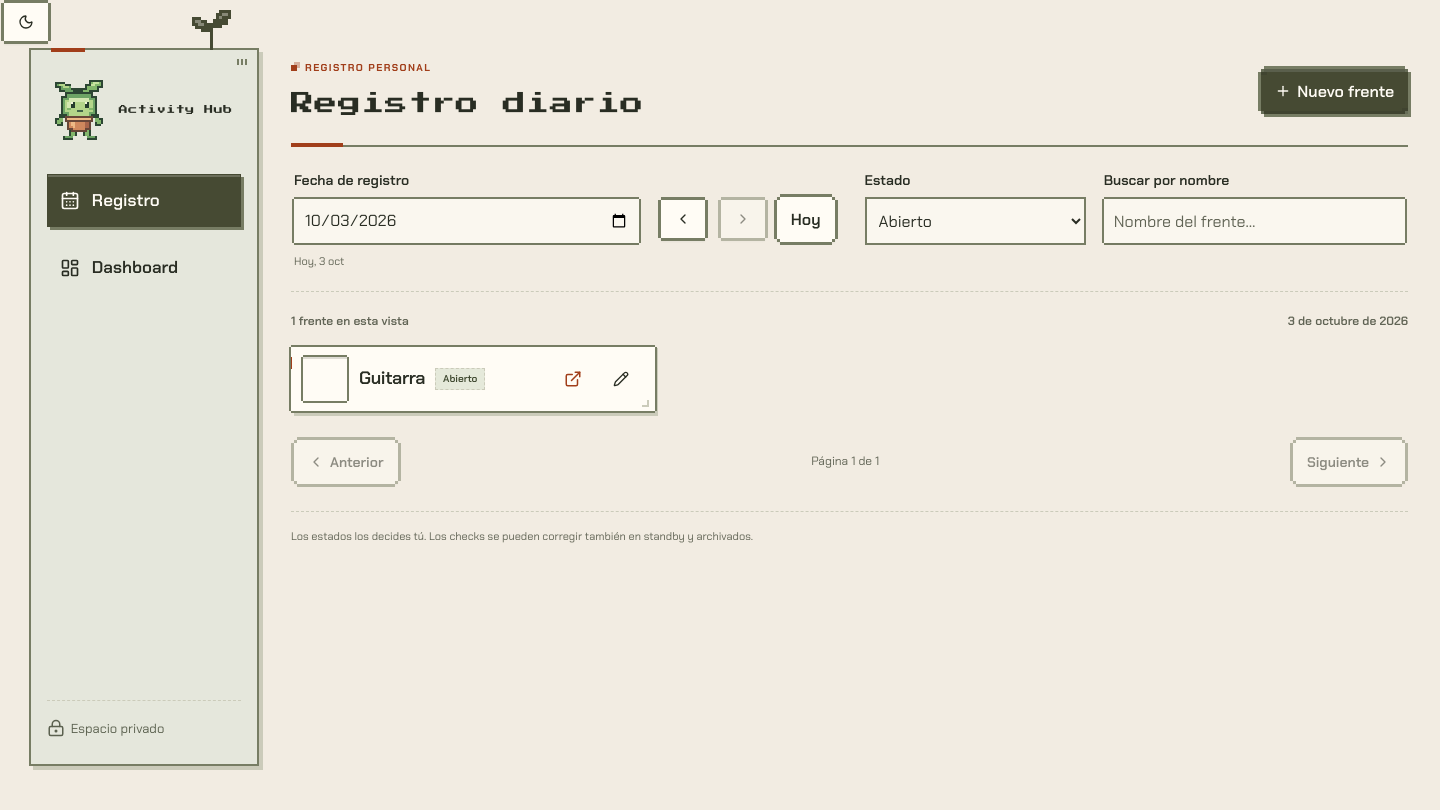
Test: Preferencia visual independiente de las cuentas y escrituras › el editor no ofrece cambiar tema y conserva borrador e intención si cambia desde otra pestaña
expect the heading "Guitarra" is shown: met, box x1=359 y1=366 x2=425 y2=392
Click the button "Nuevo frente" at (1335, 91), box x1=1261 y1=69 x2=1408 y2=114
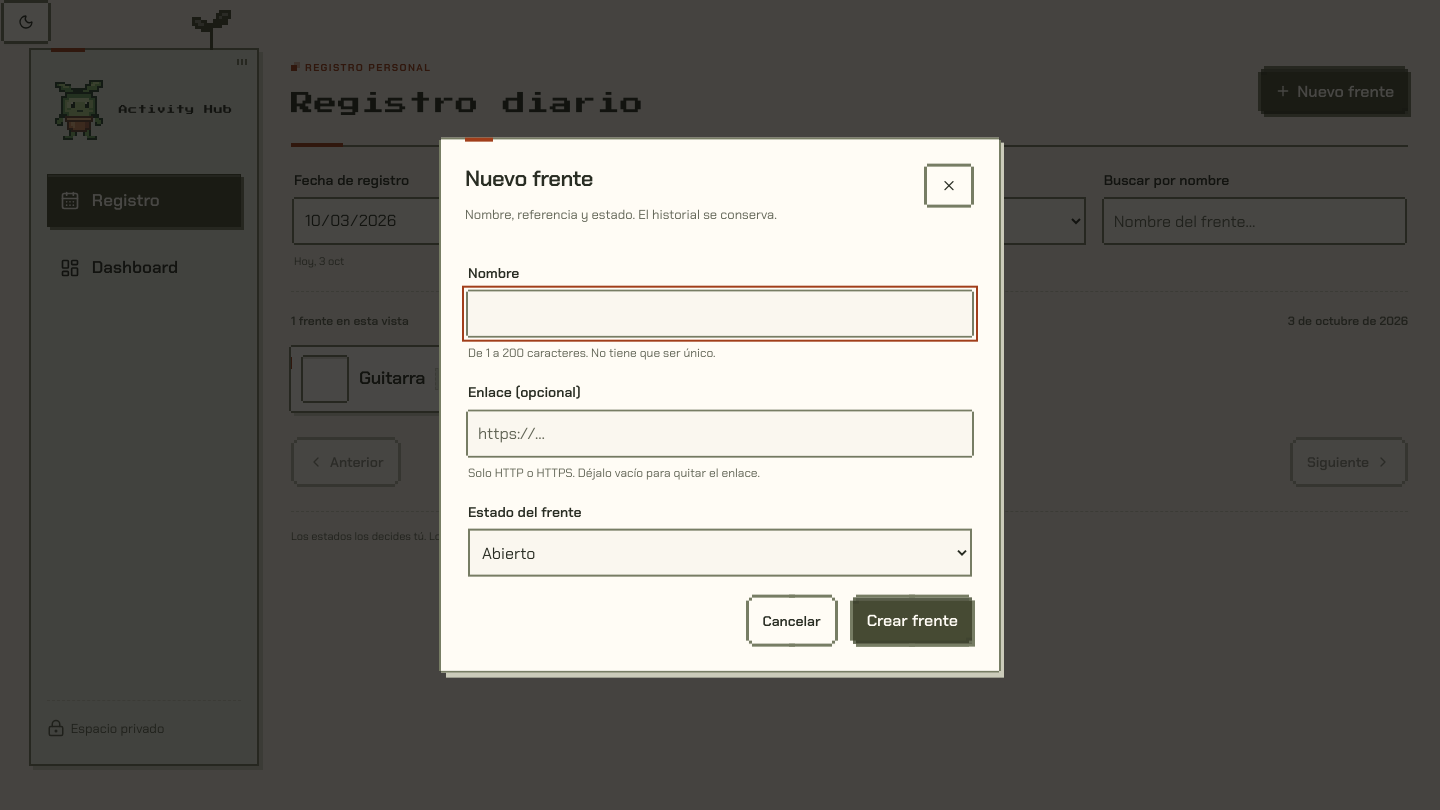
Type "Borrador conservado" into the field labelled "Nombre" at (720, 314), box x1=468 y1=292 x2=972 y2=336
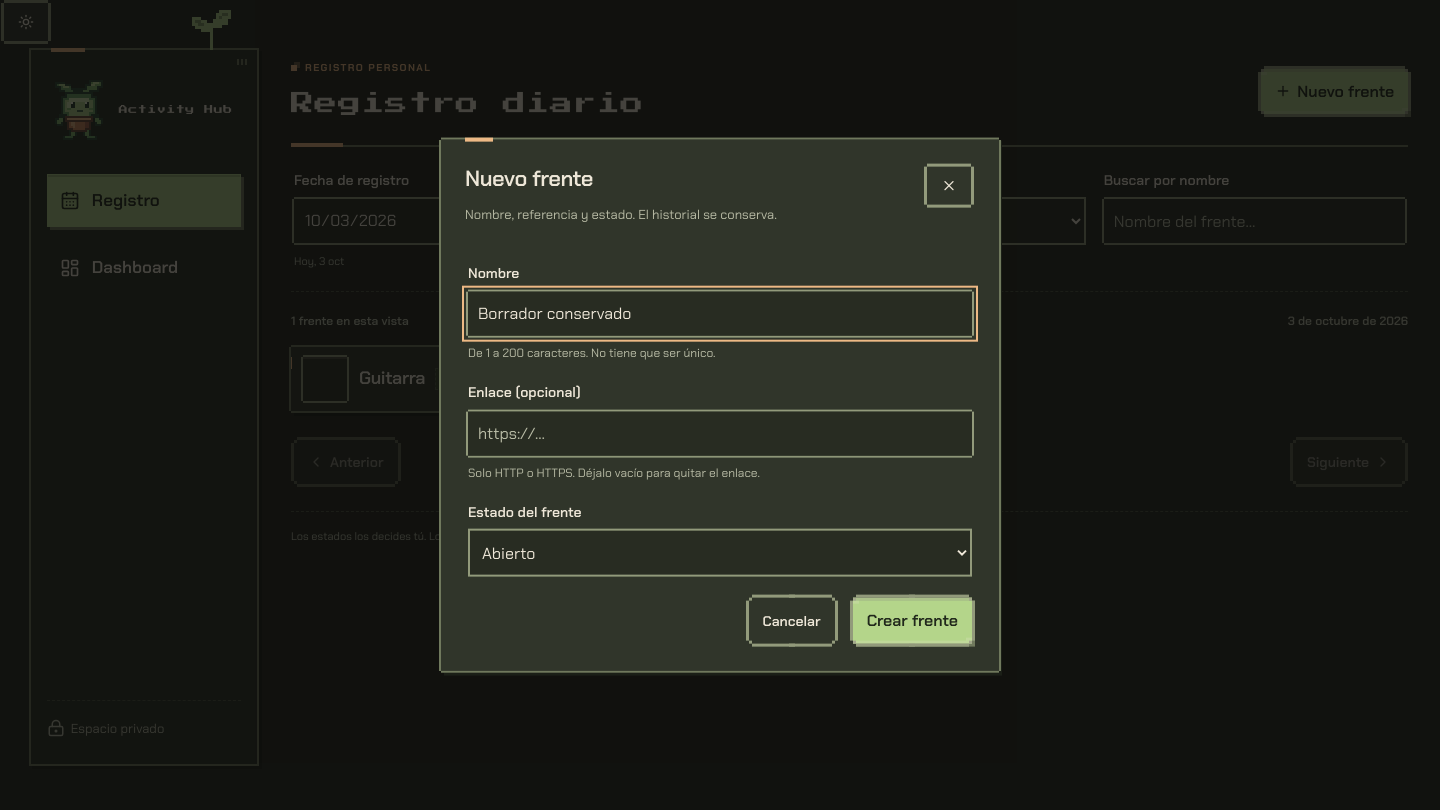
Click the button "Crear frente" at (912, 621), box x1=853 y1=598 x2=972 y2=643
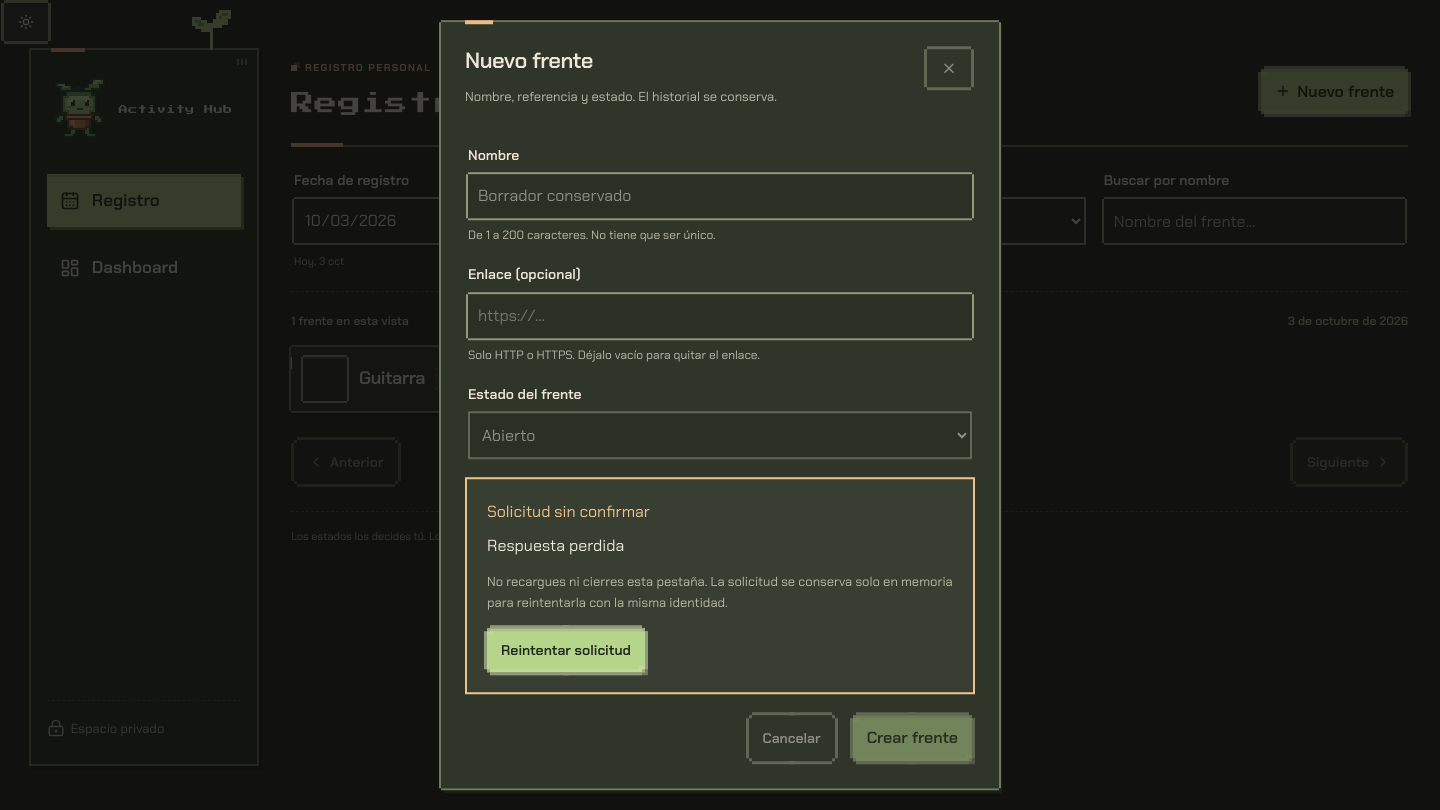
expect the field labelled "Nombre" is disabled: met, box x1=468 y1=174 x2=972 y2=218
expect the heading "Solicitud sin confirmar" is shown: met, box x1=487 y1=499 x2=650 y2=525
Click the button "Reintentar solicitud" at (566, 650), box x1=487 y1=628 x2=645 y2=672
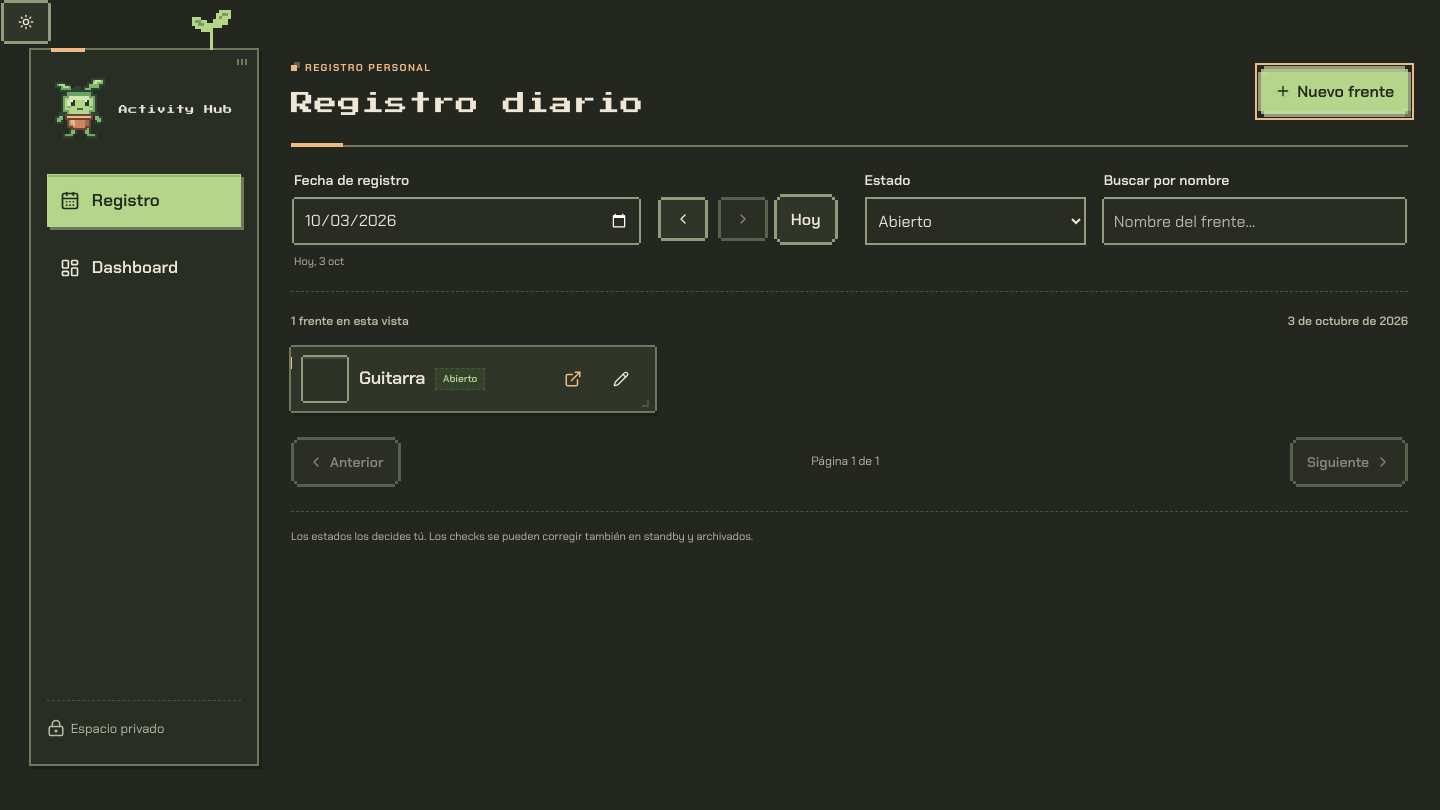
expect the dialog is gone: met
